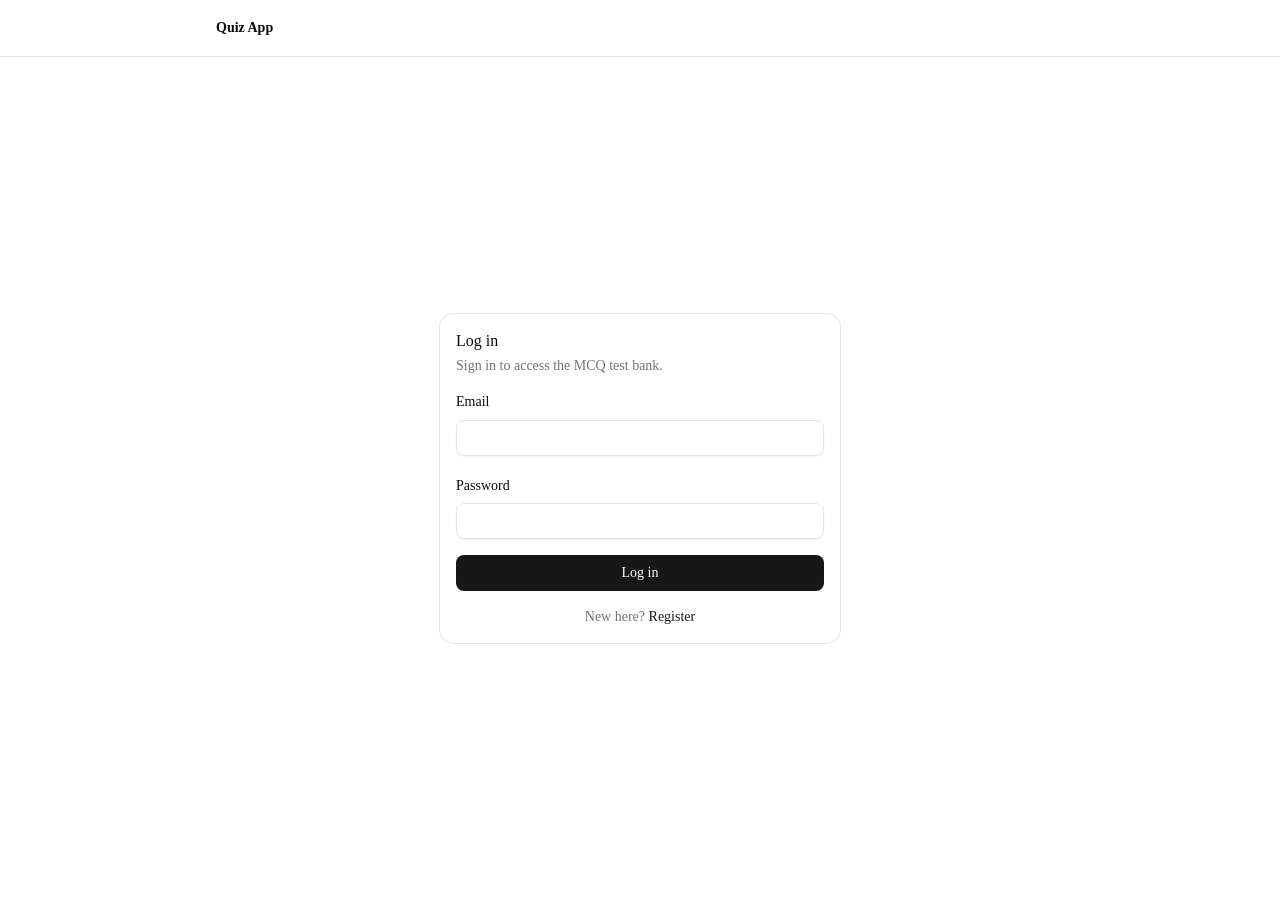
LoginForm › shows "Invalid email or password" for failed login
In the field labelled "Email": (640, 438) [456, 420, 824, 456], type "jane@example.com"
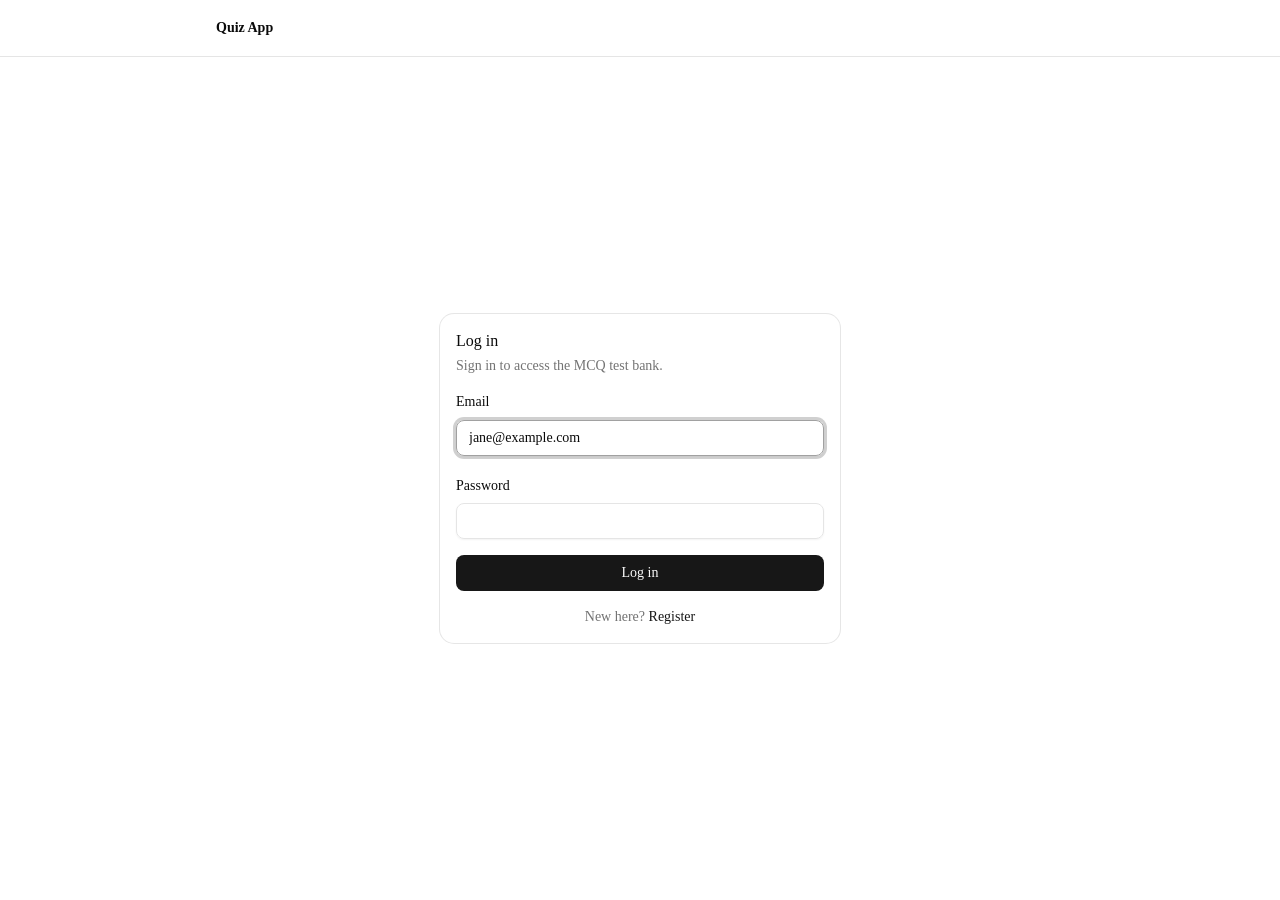
In the password field labelled "Password": (640, 521) [456, 503, 824, 539], type "wrongPassword"
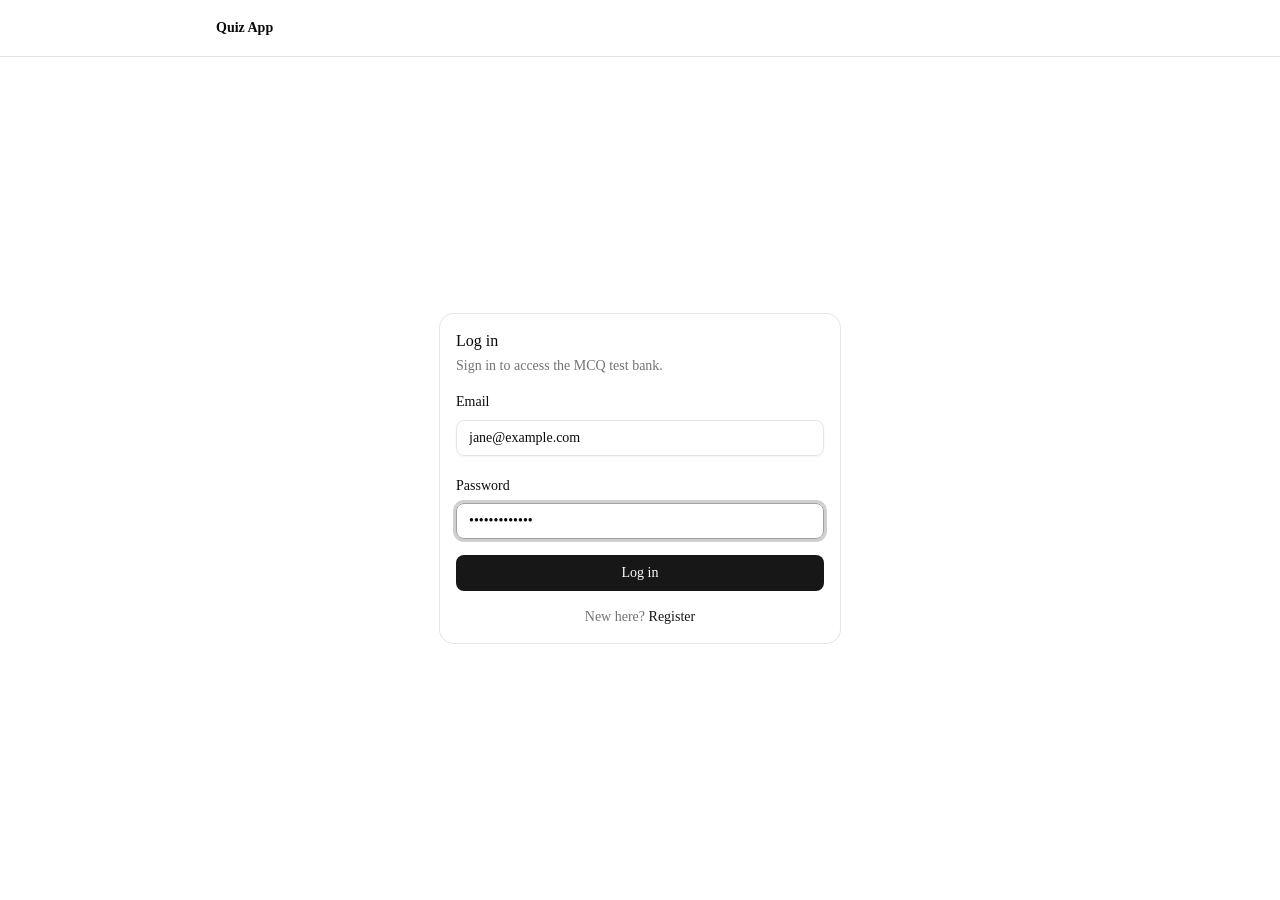
Click the button "Log in": (640, 573) [456, 555, 824, 591]
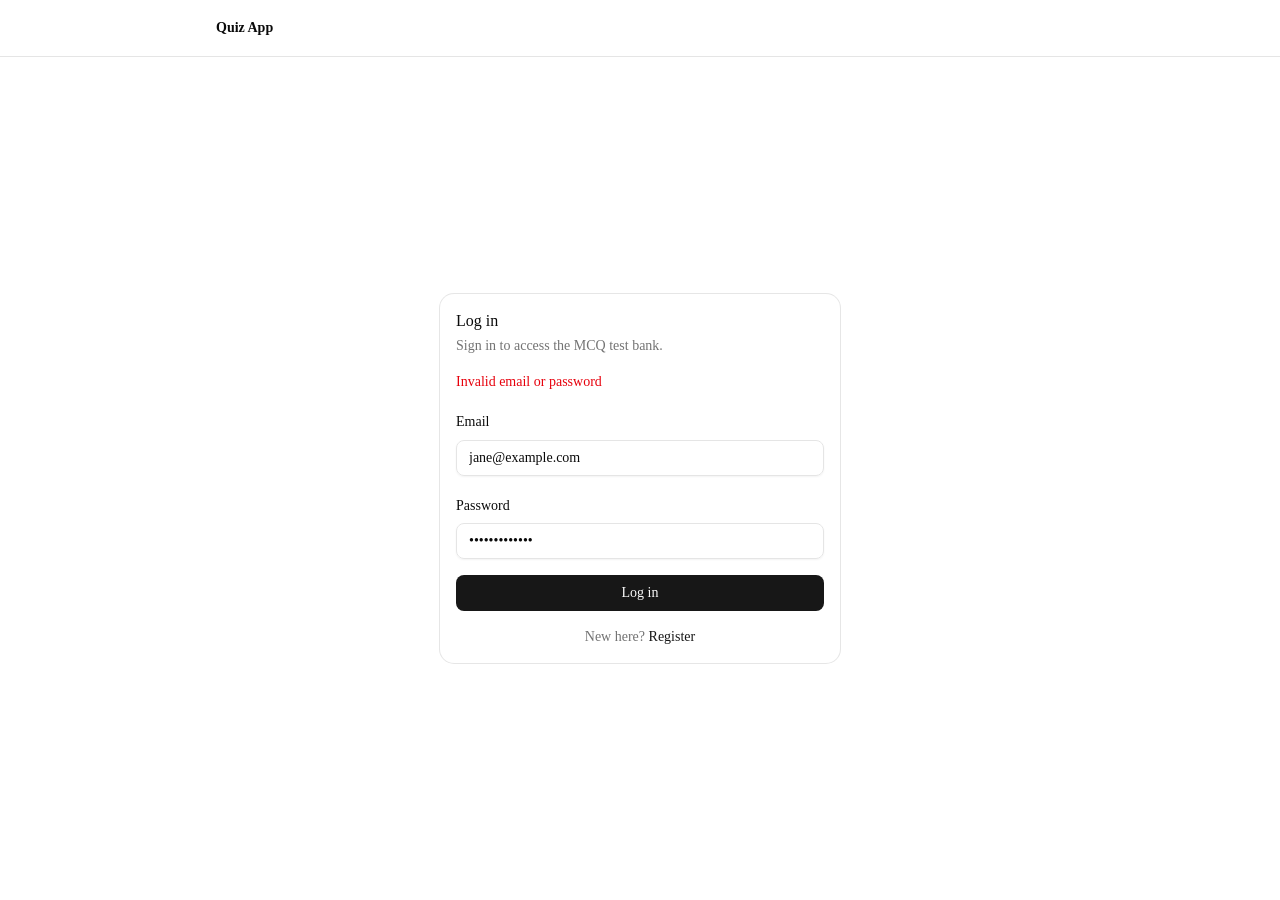
Check: the message reads "Invalid email or password", box [456, 374, 602, 389]
